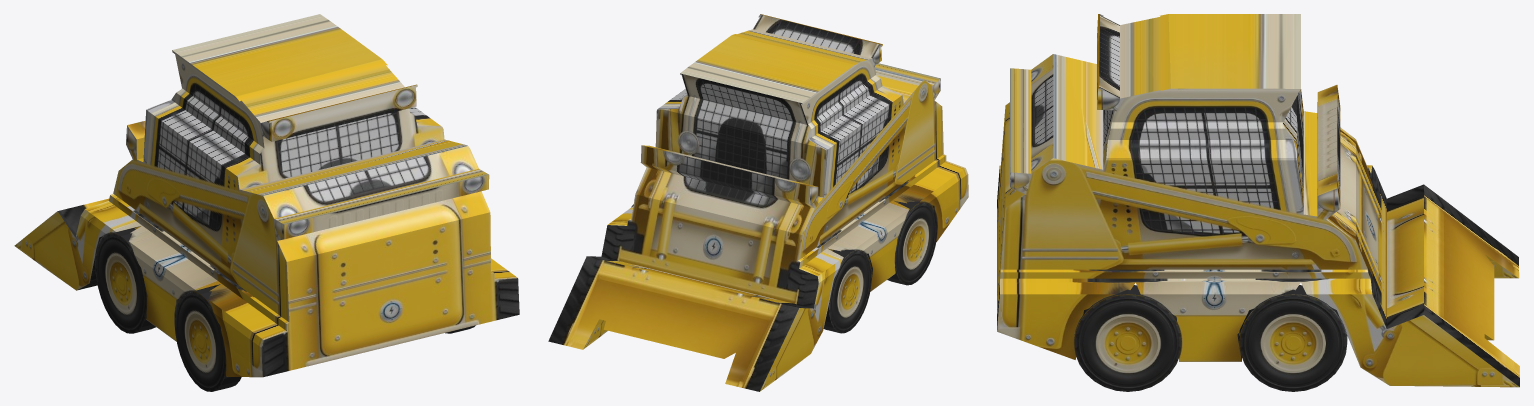
Rendered from skid_steer.glb.
3 views of the same model, side by side, from view 1: azimuth 30°, elevation 25°; view 2: azimuth 150°, elevation 25°; view 3: azimuth 270°, elevation 25° (orthographic). The views are drawn at different scales.
Parts seen in each view (by area): view 1: skid_steer, wheel_FL, wheel_BL; view 2: skid_steer, wheel_FL, wheel_BL; view 3: skid_steer, wheel_FR, wheel_BR.
Boxes of the visible parts, box(x1,y1,x2,y2) form: skid_steer: box(14, 14, 519, 377); wheel_FL: box(95, 228, 155, 333); wheel_BL: box(175, 286, 241, 391); skid_steer: box(548, 14, 968, 391); wheel_FL: box(823, 249, 871, 333); wheel_BL: box(887, 201, 937, 285); skid_steer: box(997, 14, 1519, 387); wheel_FR: box(1239, 285, 1347, 391); wheel_BR: box(1074, 285, 1181, 391).
Bounding box in the file's own units: 1.78 × 1.74 × 3.
Materials: 3 (1 with a texture image).
